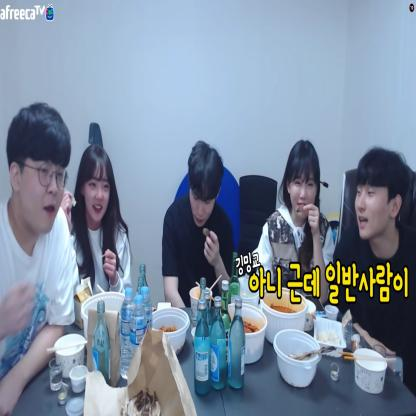streamer: (0, 102, 75, 416), (334, 145, 416, 374), (252, 139, 335, 303), (59, 144, 133, 323), (162, 140, 234, 308)
